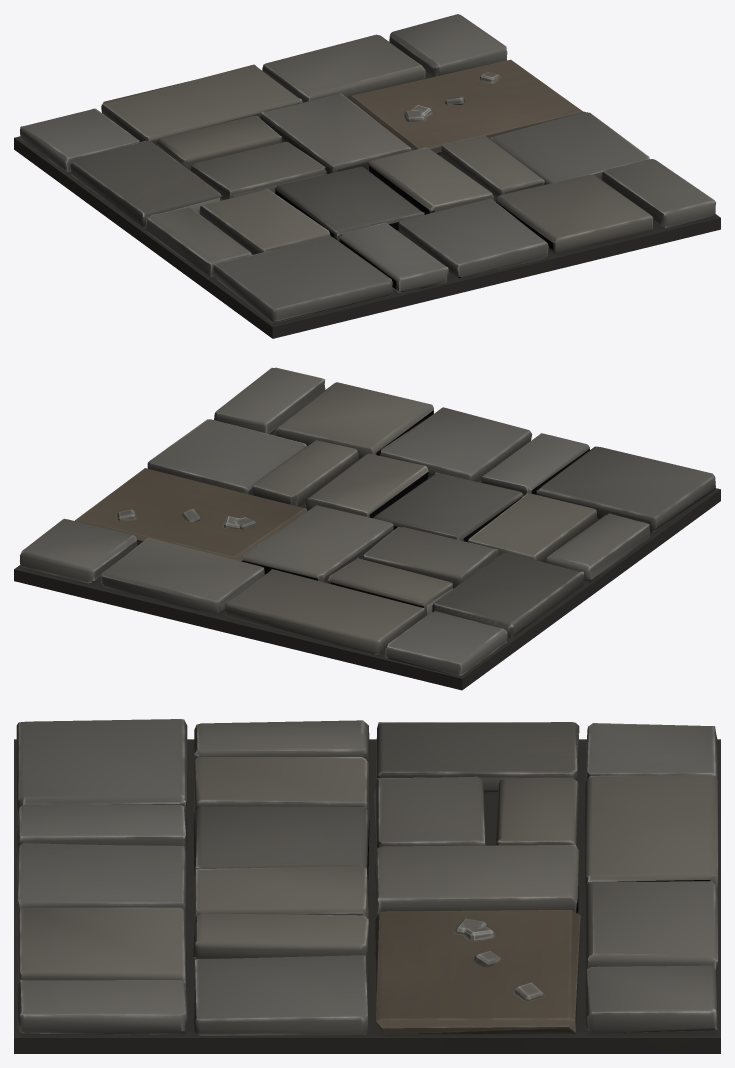
File: gallows_floor_tile_worn.glb
3 renders of one model, top to bottom at view 1: azimuth 30°, elevation 25°; view 2: azimuth 150°, elevation 25°; view 3: azimuth 270°, elevation 25°, orthographic. The views are drawn at different scales.
Visible parts, largest first — view 1: gallows_floor_tile_worn; view 2: gallows_floor_tile_worn; view 3: gallows_floor_tile_worn.
Boxes of the visible parts, x1,y1,x2,y2 form: gallows_floor_tile_worn: (14,14,720,338); gallows_floor_tile_worn: (14,367,720,690); gallows_floor_tile_worn: (14,719,720,1053).
Bounding box in the file's own units: 4 × 0.2596 × 4.
1 material, 1 textured.
